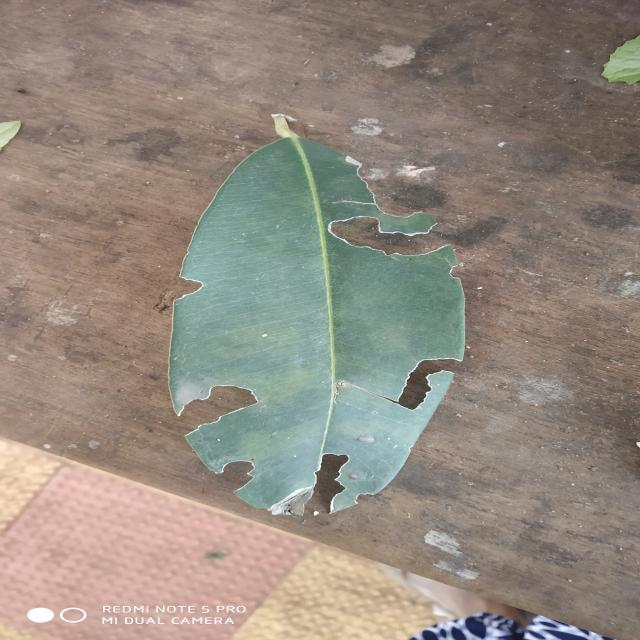nerale: (169, 122, 464, 515)
